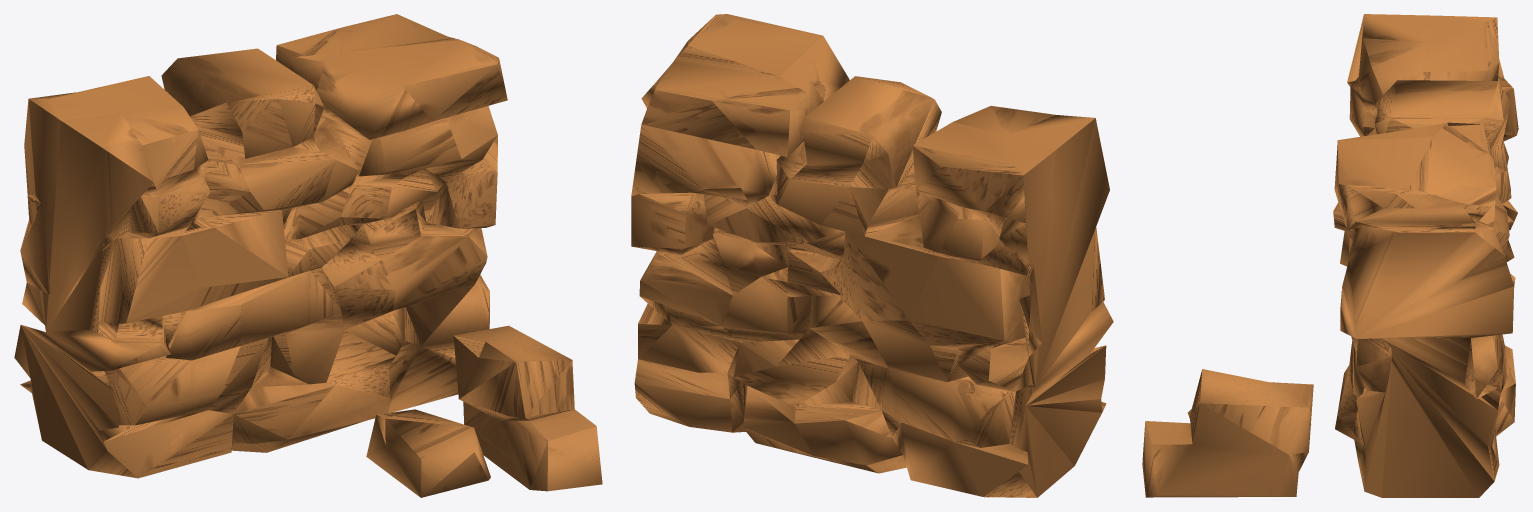
The model's file is cover_half_temple_v3_lod1.glb.
3 renders of one model, left to right at view 1: azimuth 30°, elevation 25°; view 2: azimuth 150°, elevation 25°; view 3: azimuth 270°, elevation 25°, orthographic. The views are drawn at different scales.
Bounding box in the file's own units: 0.9638 × 0.7855 × 0.8499.
1 material, 1 textured.
